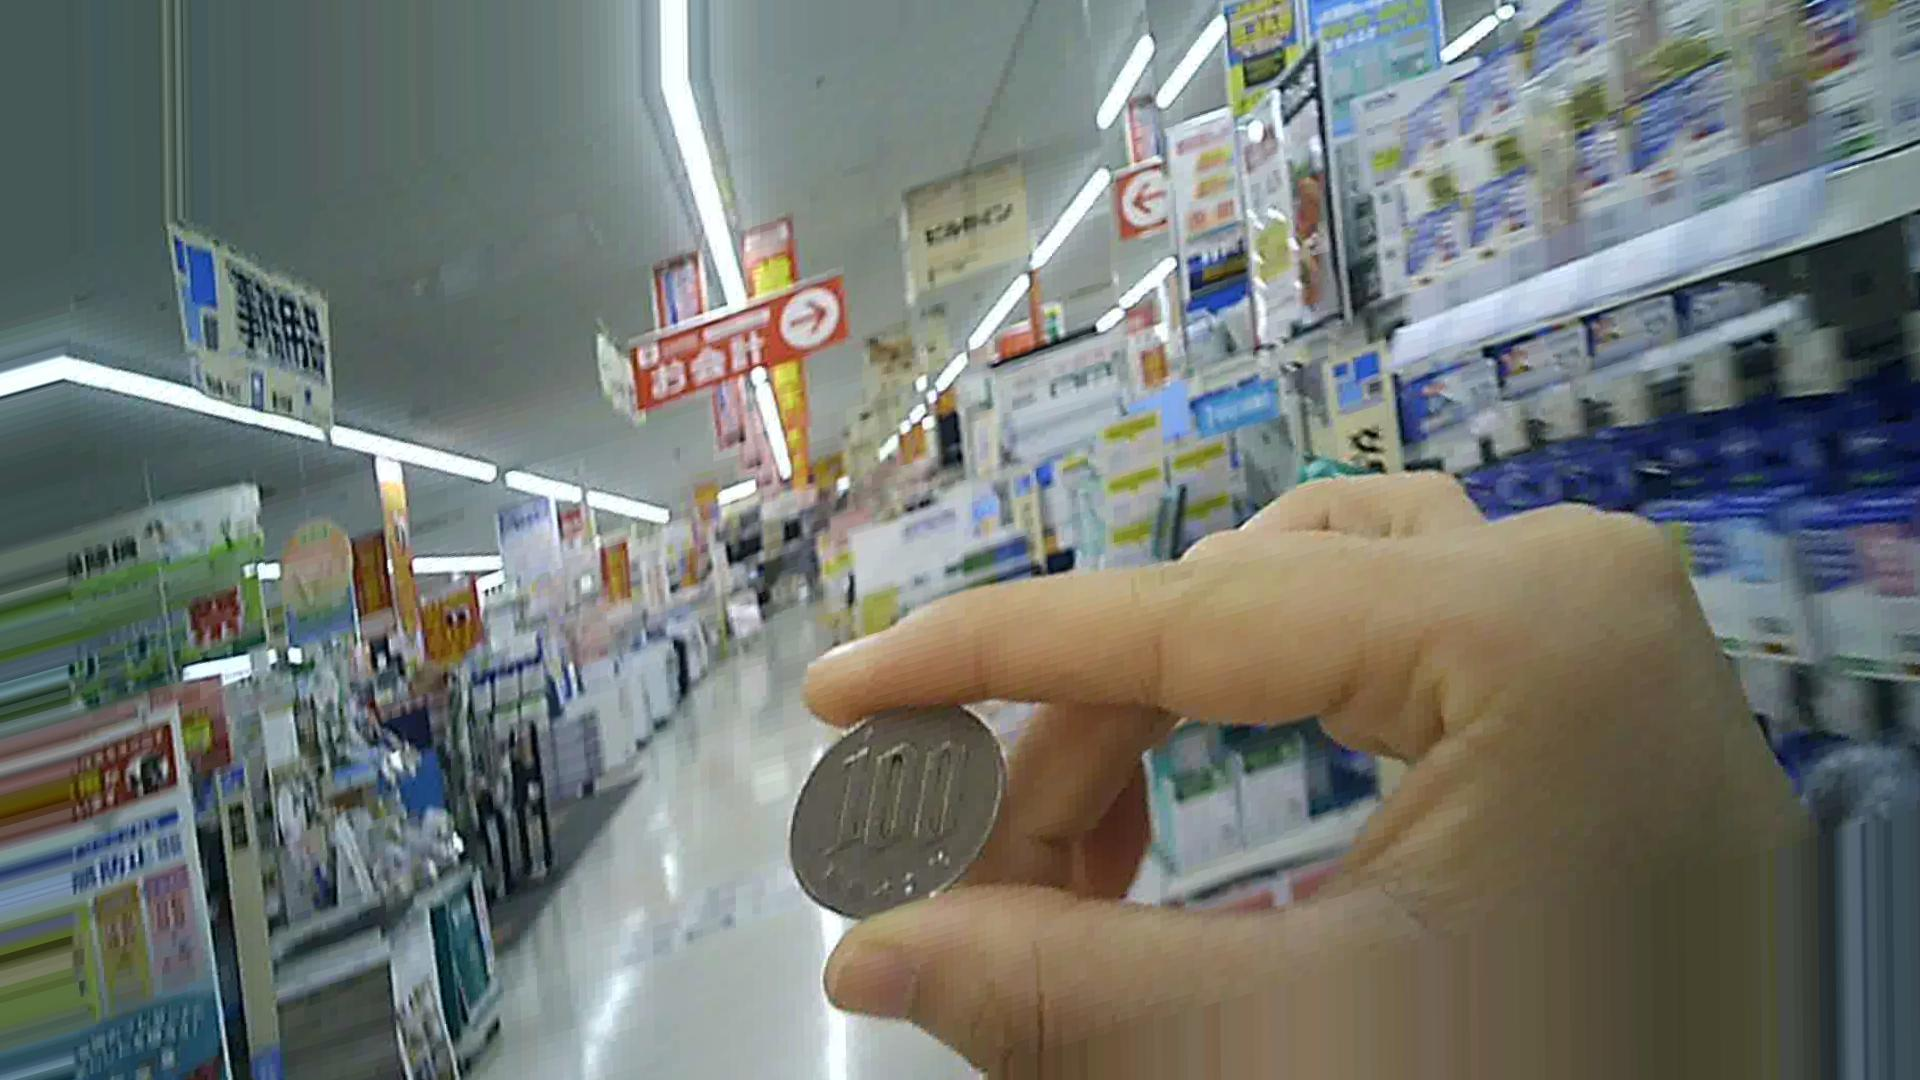100 Yen: (775, 705, 1005, 922)
